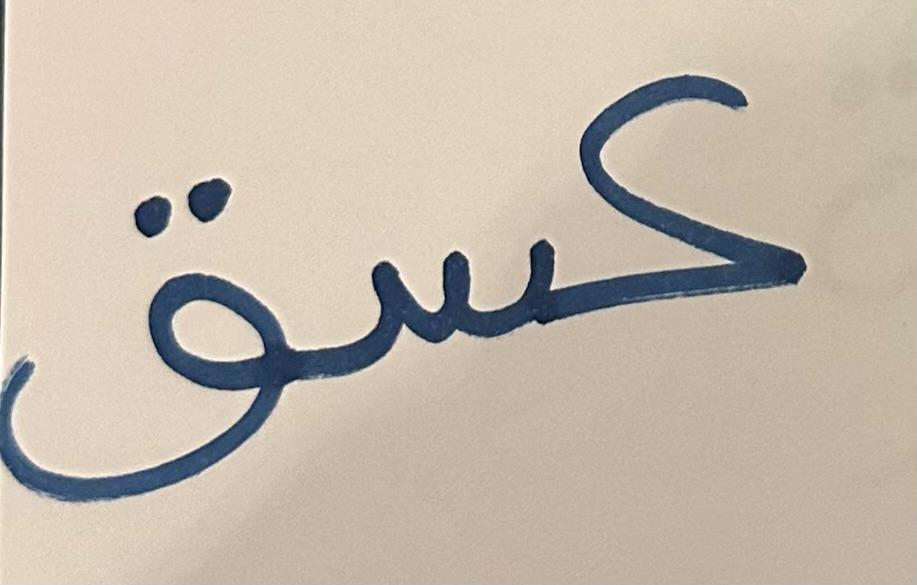ain: (571, 27, 856, 380)
reh: (5, 129, 297, 528)
sheen: (303, 129, 566, 403)
